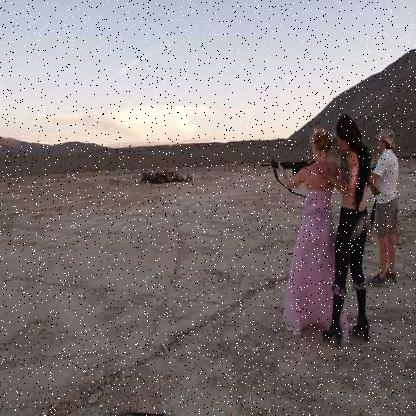rifle: (260, 155, 322, 193)
